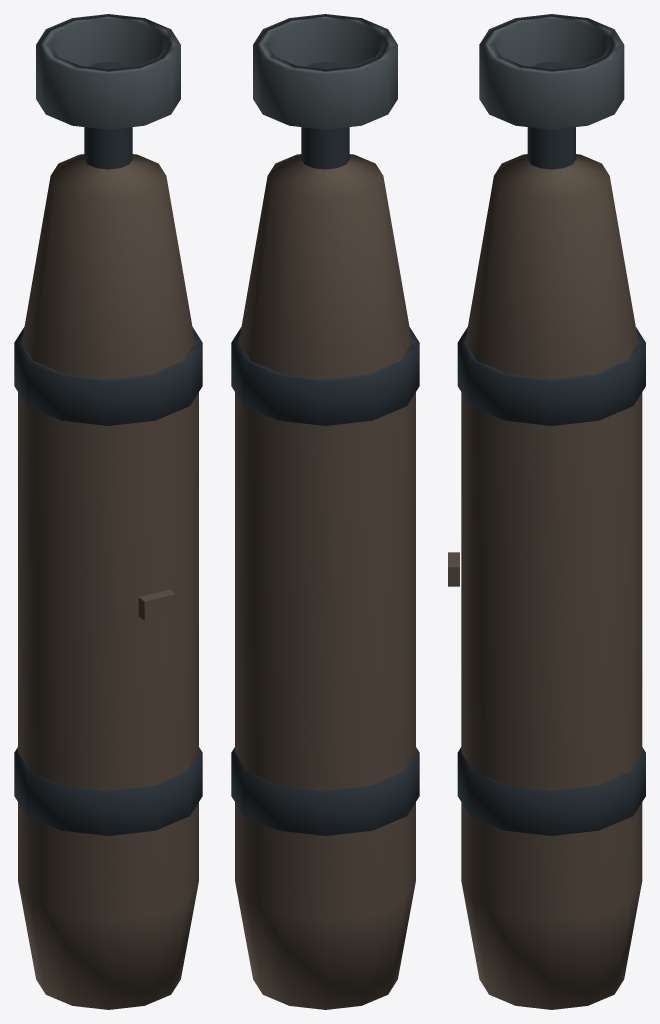
Rendered from gas-cylinder-2.glb.
The picture shows the model from 3 angles, left to right: view 1: azimuth 30°, elevation 25°; view 2: azimuth 150°, elevation 25°; view 3: azimuth 270°, elevation 25°; orthographic projection.
Parts seen in each view (by area): view 1: gas-cylinder/1/KR-230-2; view 2: gas-cylinder/1/KR-230-2; view 3: gas-cylinder/1/KR-230-2.
Part boxes in pixels (x1=…): gas-cylinder/1/KR-230-2: x1=14, y1=14, x2=202, y2=1009; gas-cylinder/1/KR-230-2: x1=231, y1=14, x2=419, y2=1009; gas-cylinder/1/KR-230-2: x1=448, y1=14, x2=645, y2=1009.
Size of the model in its own units: 0.312 by 1.71 by 0.328.
